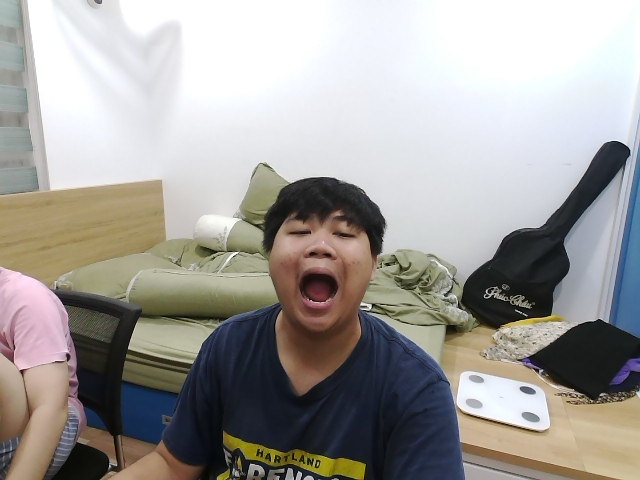face: (262, 176, 387, 332)
